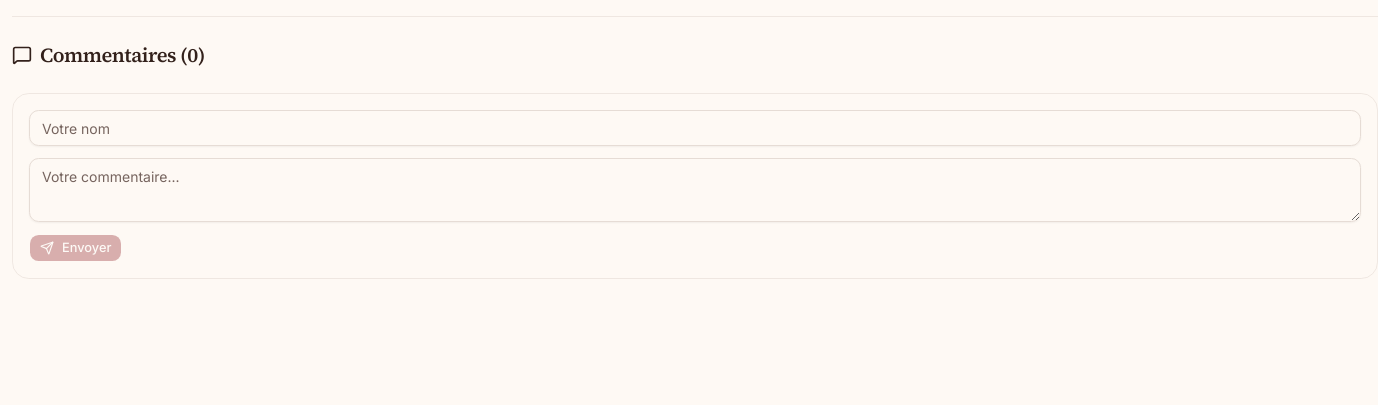
Test: CommentsSection › posts a comment and prepends it to the list
Type "Bob" into the field with placeholder "Votre nom" at (695, 128), box [29, 110, 1361, 146]
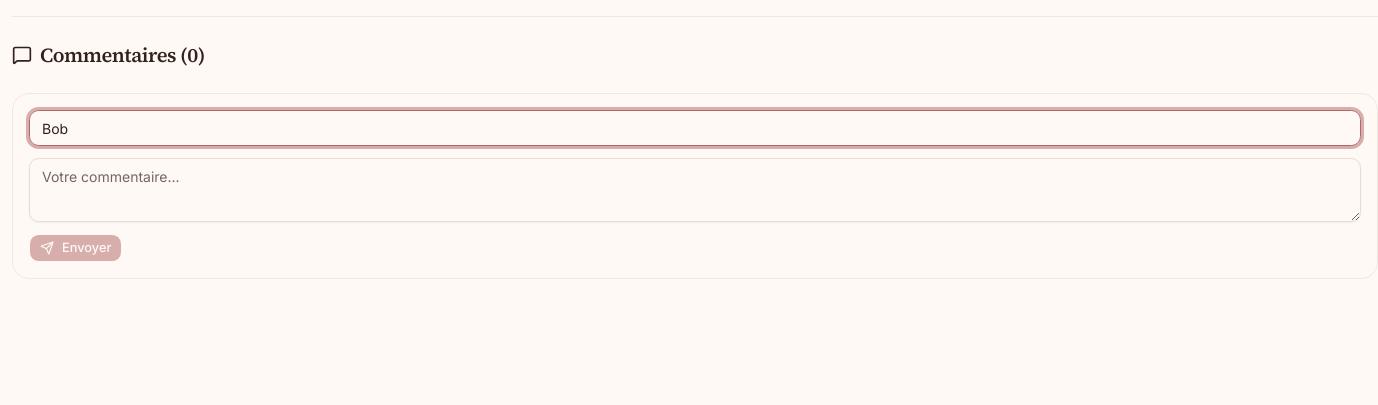
Type "Super article" into the text box with placeholder "Votre commentaire..." at (695, 190), box [29, 158, 1361, 222]
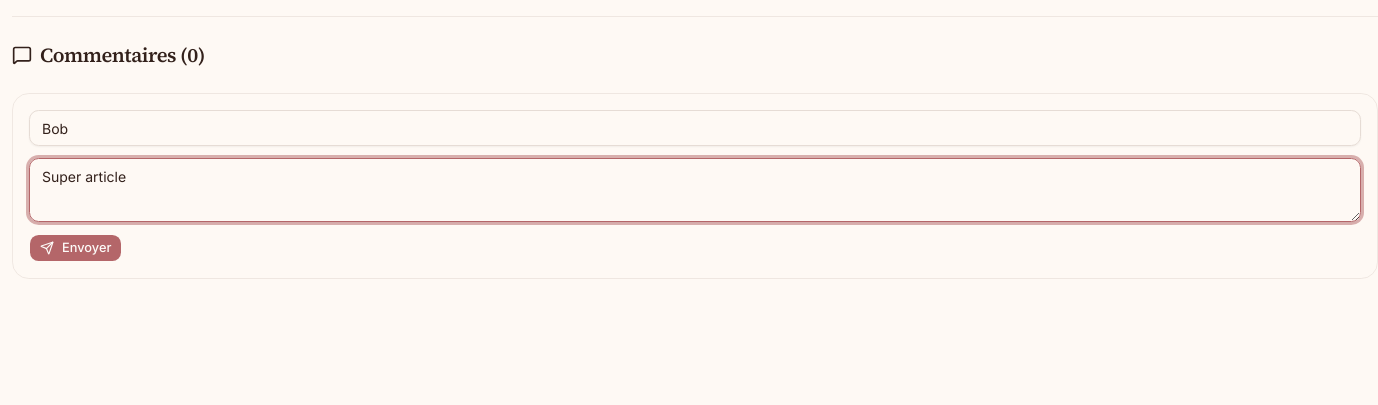
Click the button "Envoyer" at (76, 248), box [29, 234, 122, 262]
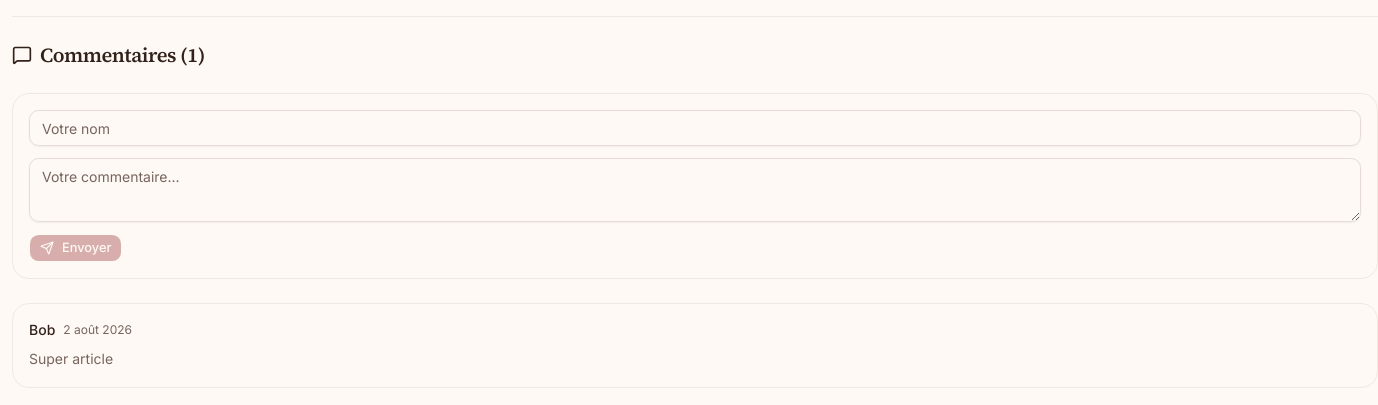
Result: the text "Bob" is shown at [29, 320, 55, 340]
Result: the heading "Commentaires (1)" is shown at [12, 41, 205, 69]
